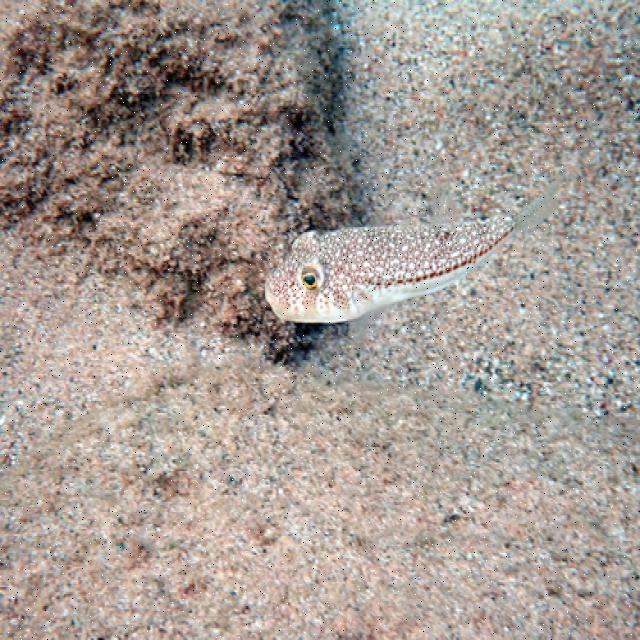Balik: (265, 185, 558, 322)
